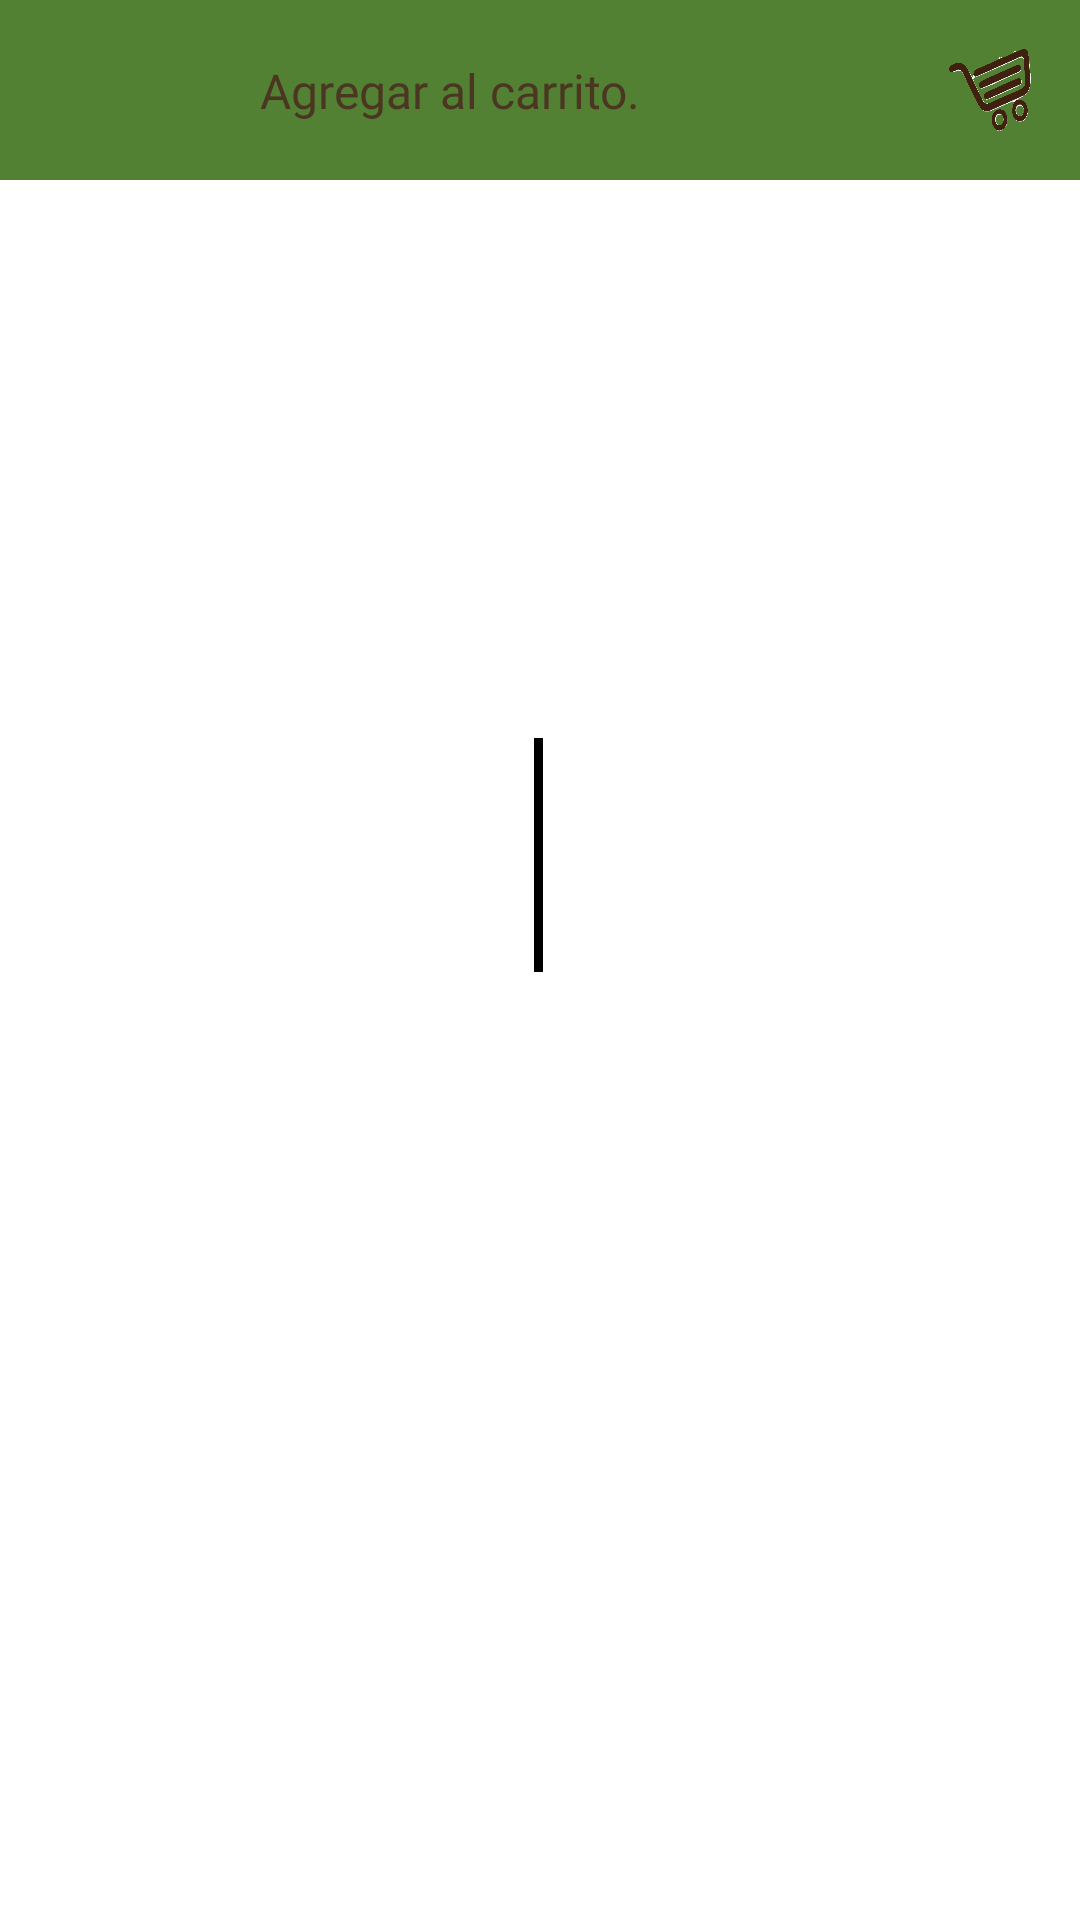

Where icons sit on this 1080*1920 app screen, as BBox(x1, y1, x2, y2):
carrito: BBox(949, 49, 1031, 131)
